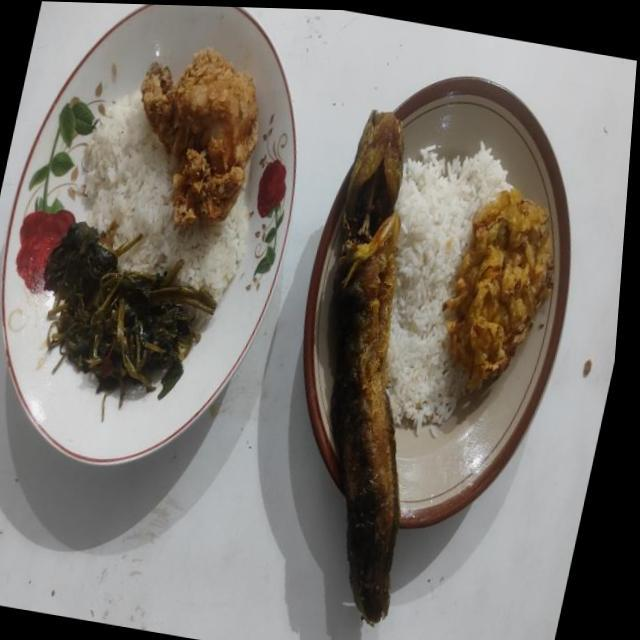nasi_putih: (388, 142, 512, 436), (83, 96, 249, 300)
tumis_kangkung: (45, 222, 216, 421)
